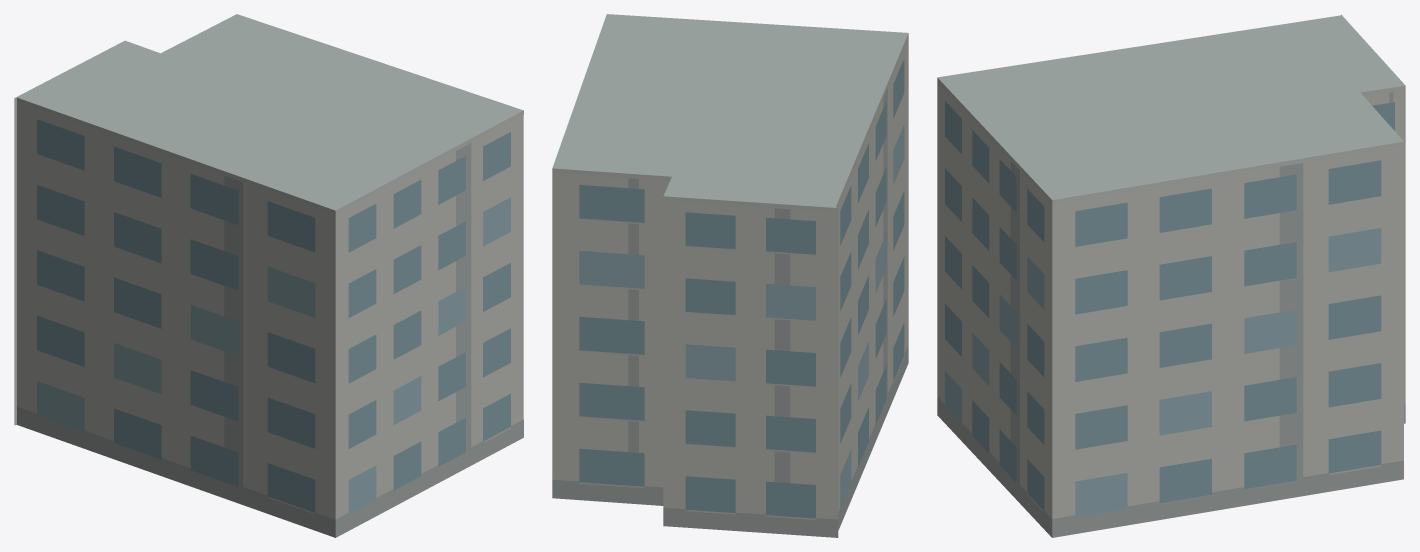
File: survey-upis-32860277.glb
3 views of the same model, side by side, from view 1: azimuth 30°, elevation 25°; view 2: azimuth 150°, elevation 25°; view 3: azimuth 270°, elevation 25° (orthographic). The views are drawn at different scales.
Visible parts, largest first — view 1: survey-upis-32860277.tmp; view 2: survey-upis-32860277.tmp; view 3: survey-upis-32860277.tmp.
Part boxes in pixels (box(x1,y1,x2,y2)): survey-upis-32860277.tmp: box(14, 14, 523, 537); survey-upis-32860277.tmp: box(552, 14, 908, 537); survey-upis-32860277.tmp: box(937, 14, 1405, 537).
Bounding box in the file's own units: 21.05 × 17.8 × 22.38.
